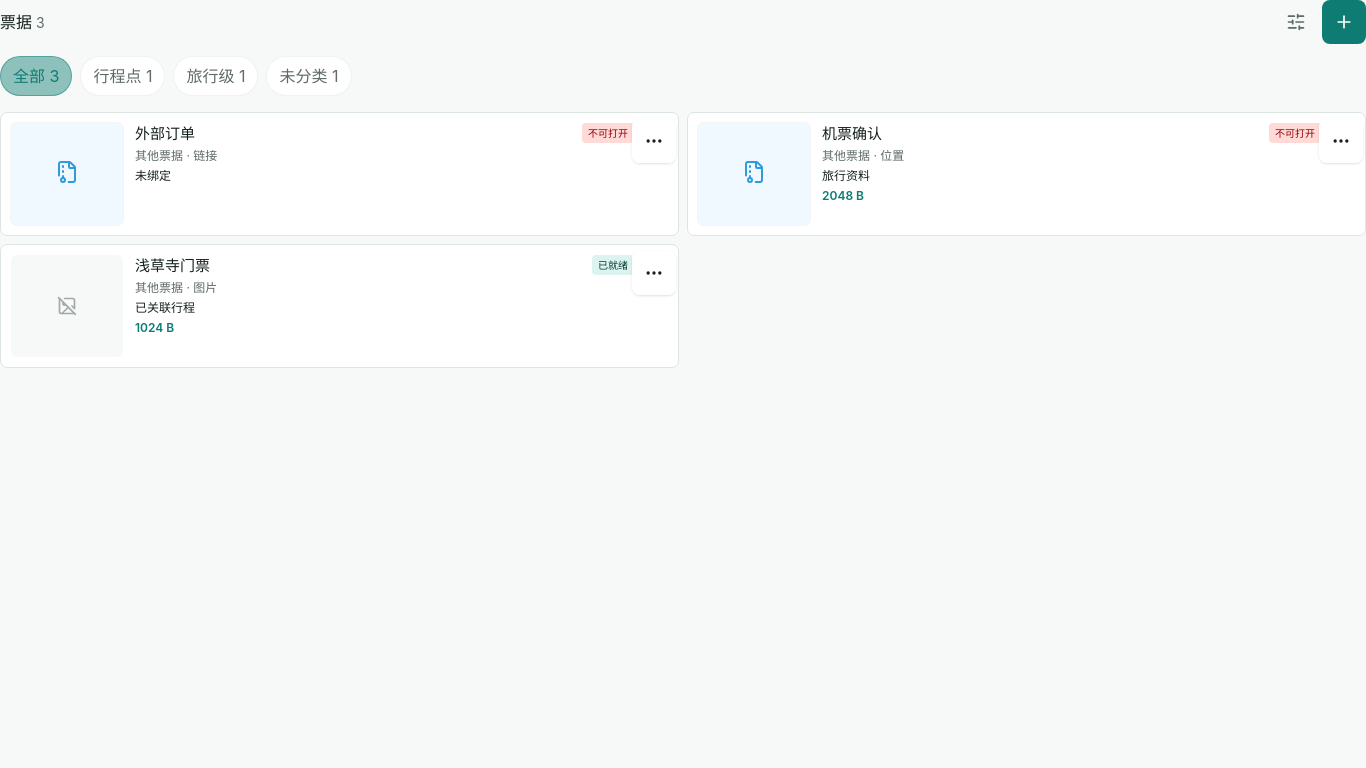
Test: TicketLibraryPage › filters gallery from actionable overview stats
This screenshot has width=1366, height=768.
Step 1. Click the button named "筛选和排序票据" → point(1296, 22), box [1274,0,1318,44]
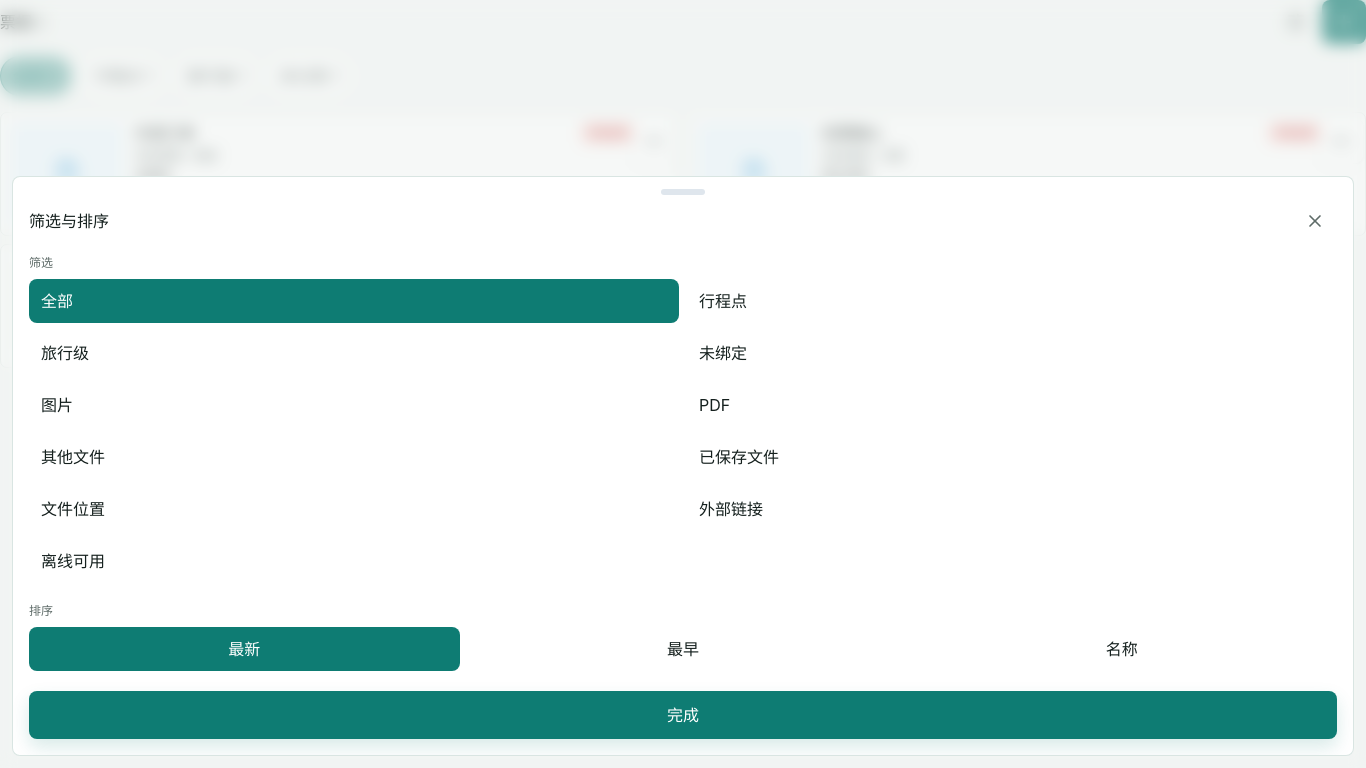
Step 2. Click the button "外部链接" → point(731, 509), box [687,487,1337,531]
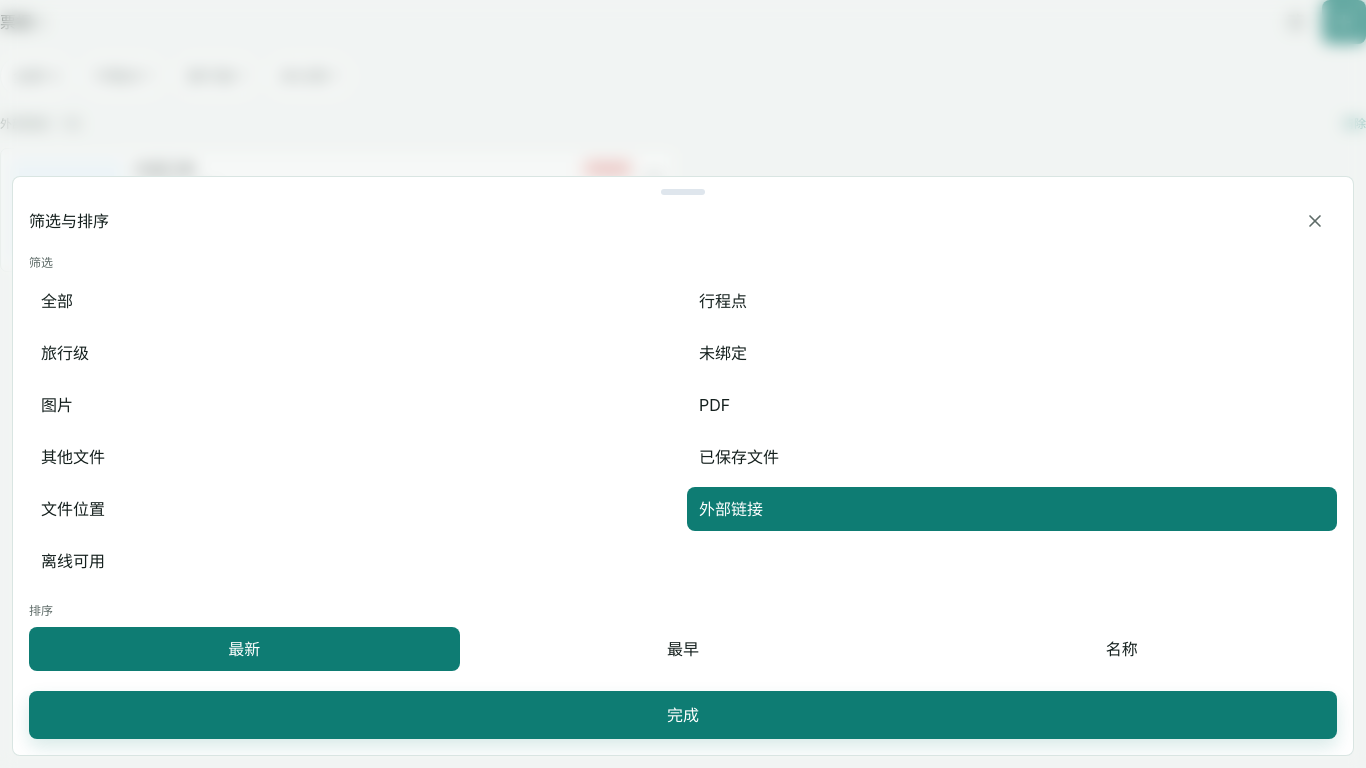
Check: the element with test id "ticket-gallery" shows "外部订单", box [1,149,678,271]
Check: the element with test id "ticket-filter-summary" shows "外部链接：1 张", box [0,116,80,131]
Check: the button with test id "ticket-gallery" no longer shows "机票确认"
Step 3. Click the button "全部" → point(57, 301), box [29,279,679,323]
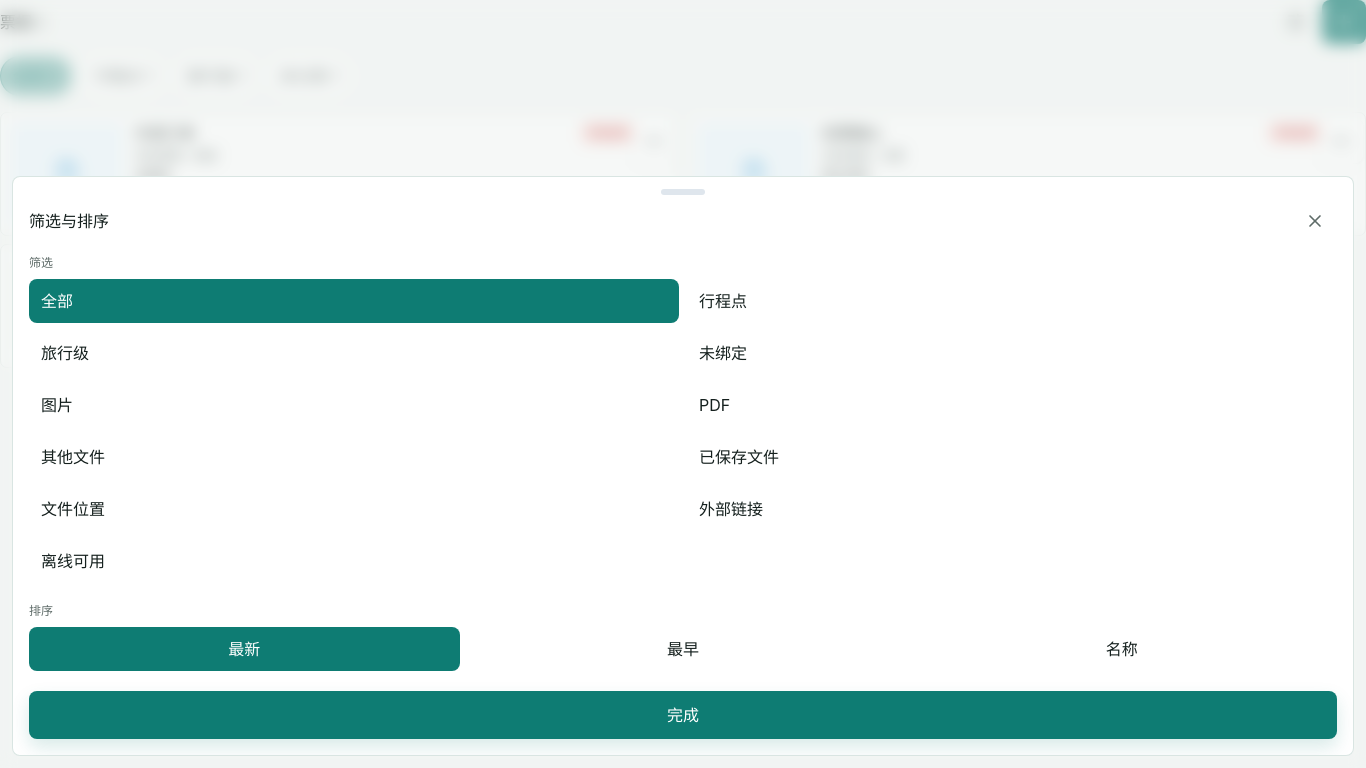
Check: the element with test id "ticket-gallery" shows "机票确认", box [688,113,1365,235]
